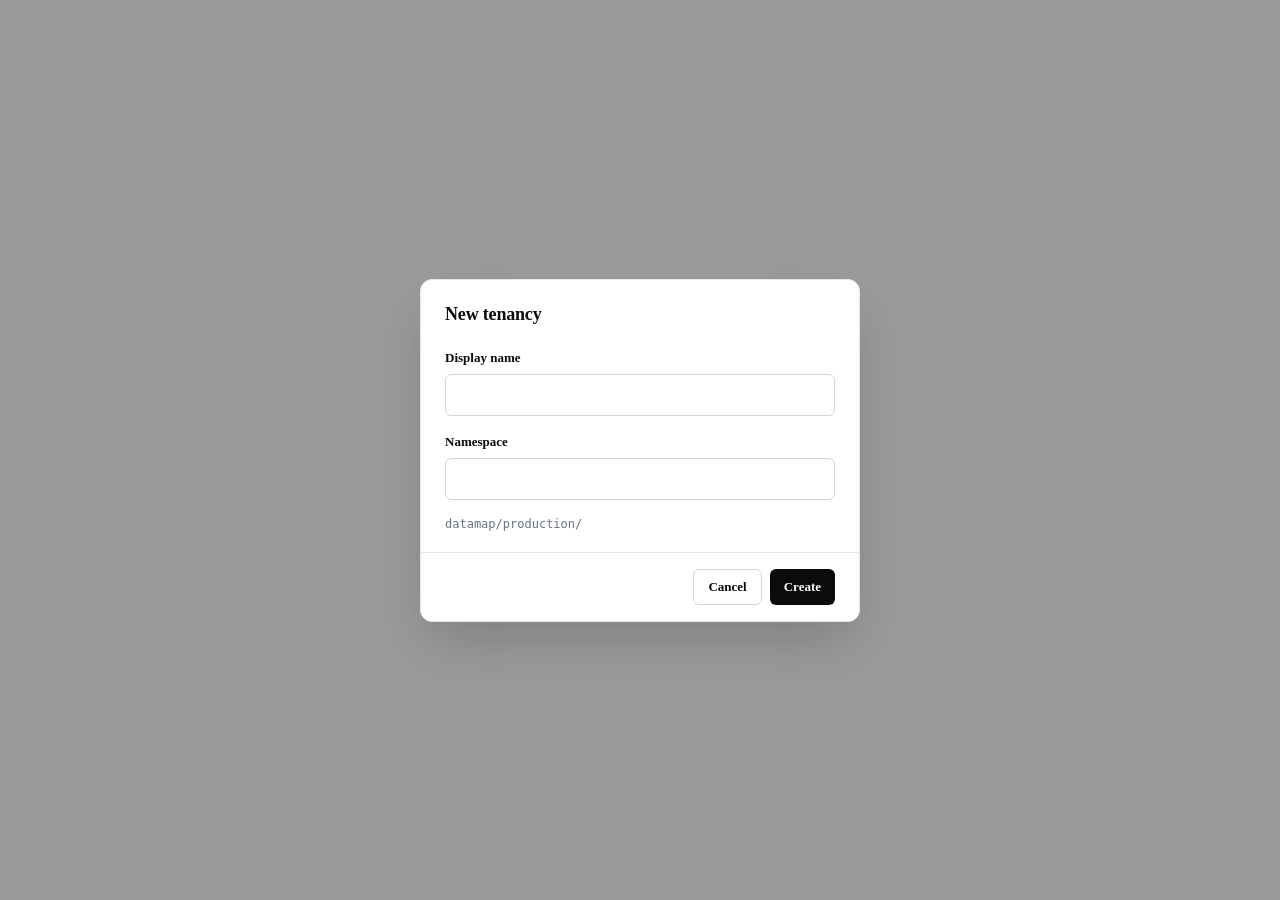
Test: NewTenancyDialog › the namespace follows the display name, and the path is previewed
expect the dialog "New tenancy" is shown: met, box [420, 278, 860, 622]
Type "Cerrado Flux" into the field labelled "Display name".
click(640, 394); type("Cerrado Flux")  # box [445, 374, 835, 416]
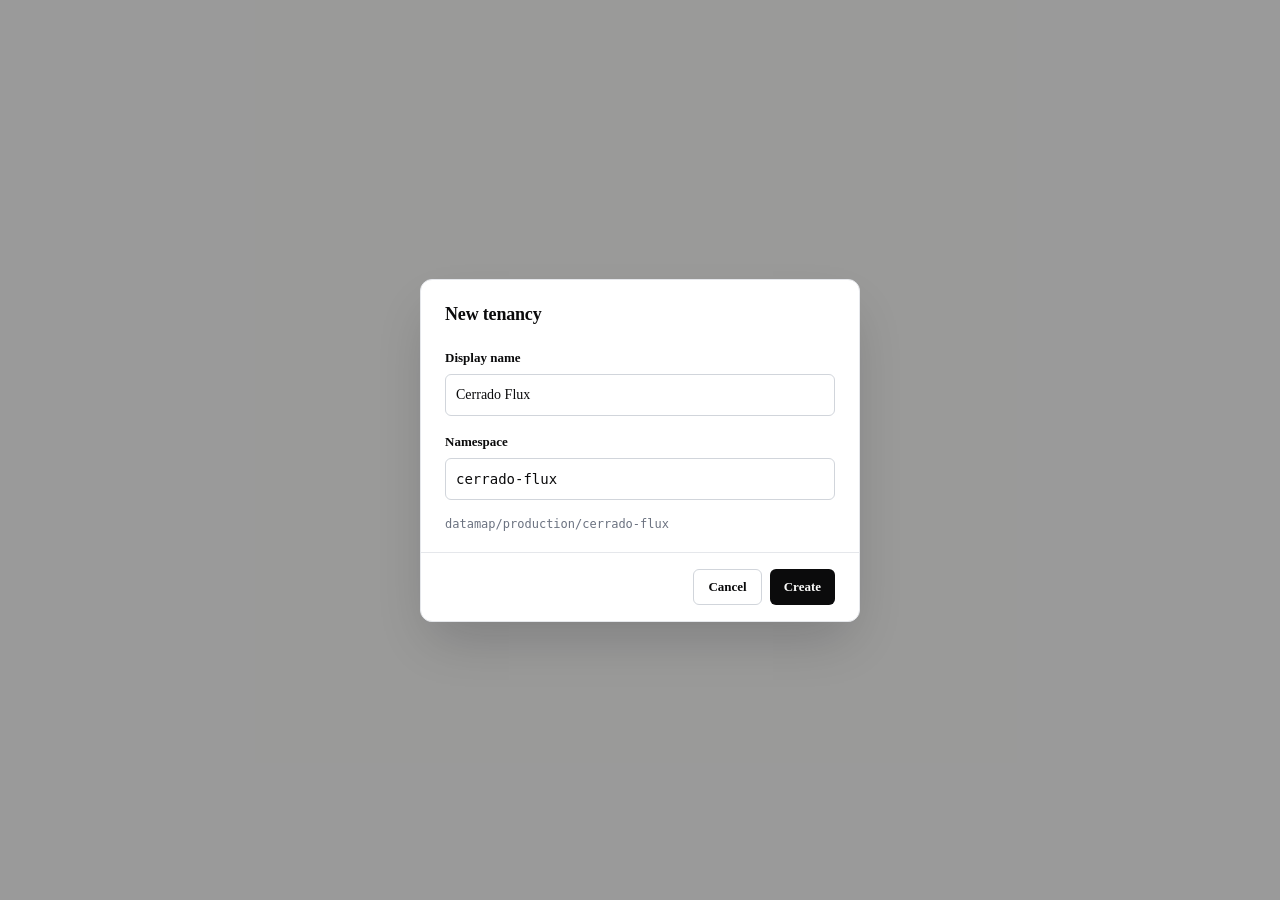
expect the text "datamap/production/cerrado-flux" is shown: met, box [445, 516, 669, 530]
